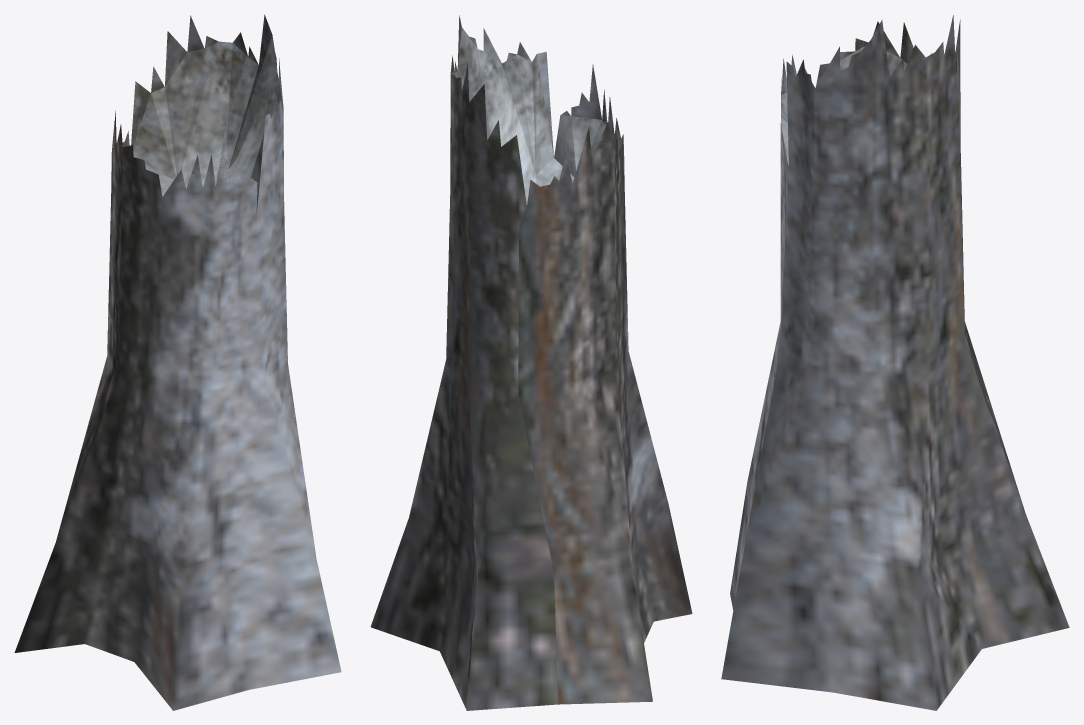
File: SM_EN_2007_kushu_01.FBX
The picture shows the model from 3 angles, left to right: view 1: azimuth 30°, elevation 25°; view 2: azimuth 150°, elevation 25°; view 3: azimuth 270°, elevation 25°; orthographic projection. The views are drawn at different scales.
Visible parts, largest first — view 1: SM_EN_2007_kushu_01; view 2: SM_EN_2007_kushu_01; view 3: SM_EN_2007_kushu_01.
Part boxes in pixels (box(x1,y1,x2,y2)): SM_EN_2007_kushu_01: box(14, 14, 341, 710); SM_EN_2007_kushu_01: box(370, 15, 692, 710); SM_EN_2007_kushu_01: box(721, 15, 1069, 710).
Size of the model in its own units: 198 by 404 by 193.
